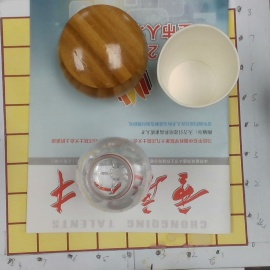bottle: (80, 138, 148, 212)
chess: (58, 5, 148, 99)
cup: (156, 24, 240, 108)
